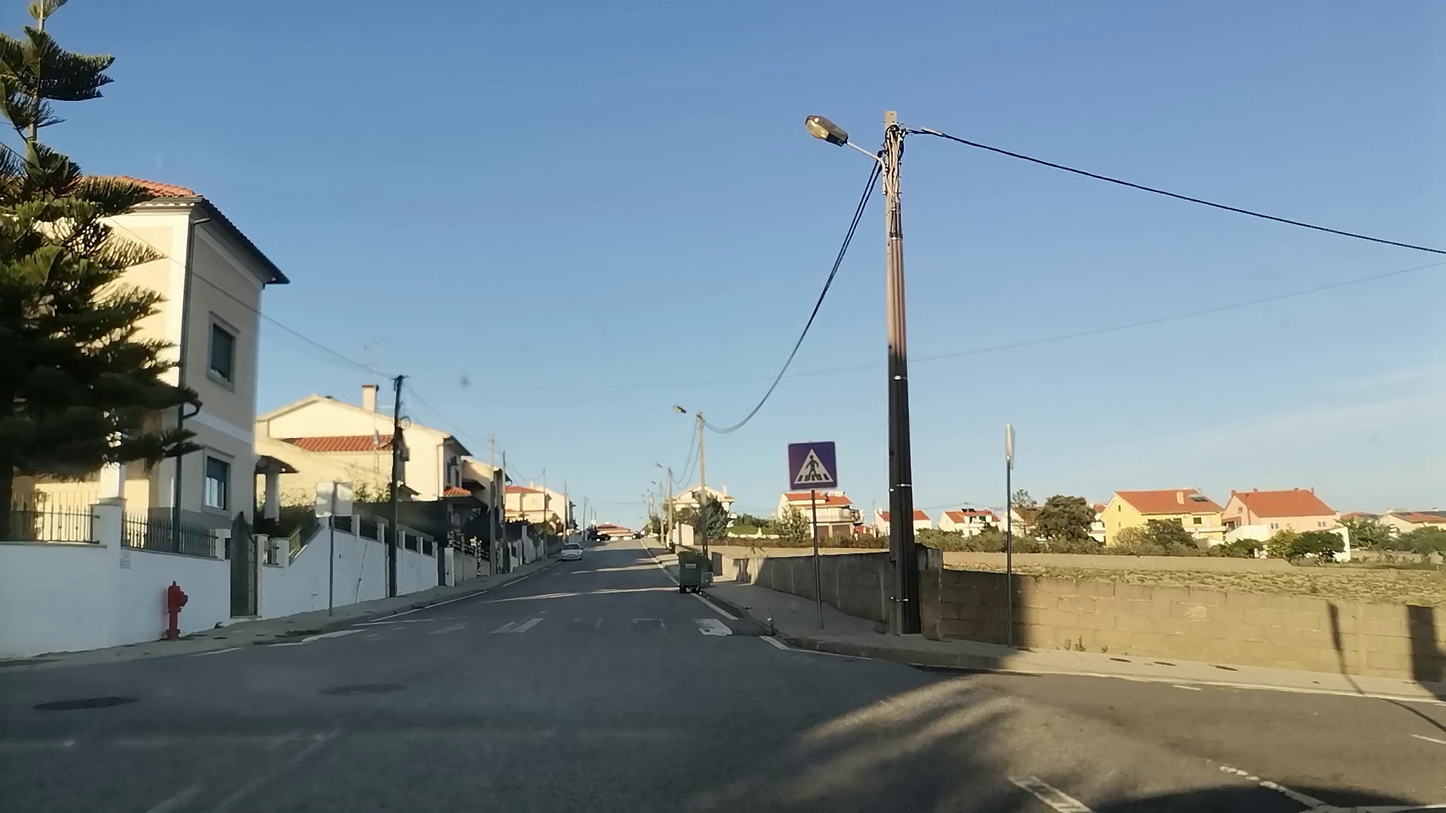Stairs: (272, 615, 733, 642)
